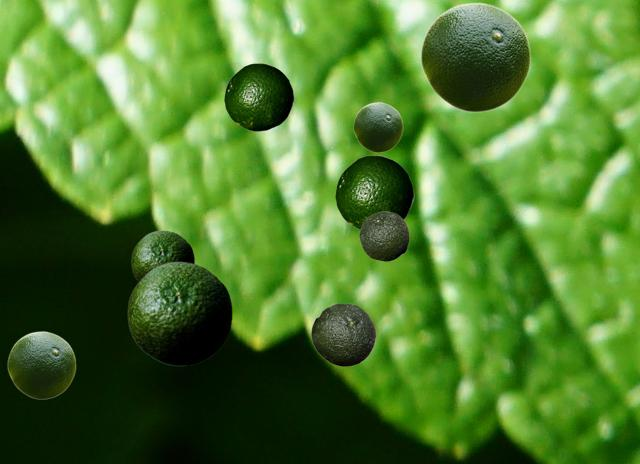calamansi: (420, 2, 530, 111), (127, 261, 231, 365), (335, 155, 413, 229), (224, 63, 293, 130), (7, 331, 75, 398), (311, 303, 375, 365), (131, 230, 193, 281), (353, 102, 402, 151), (359, 211, 408, 260)
